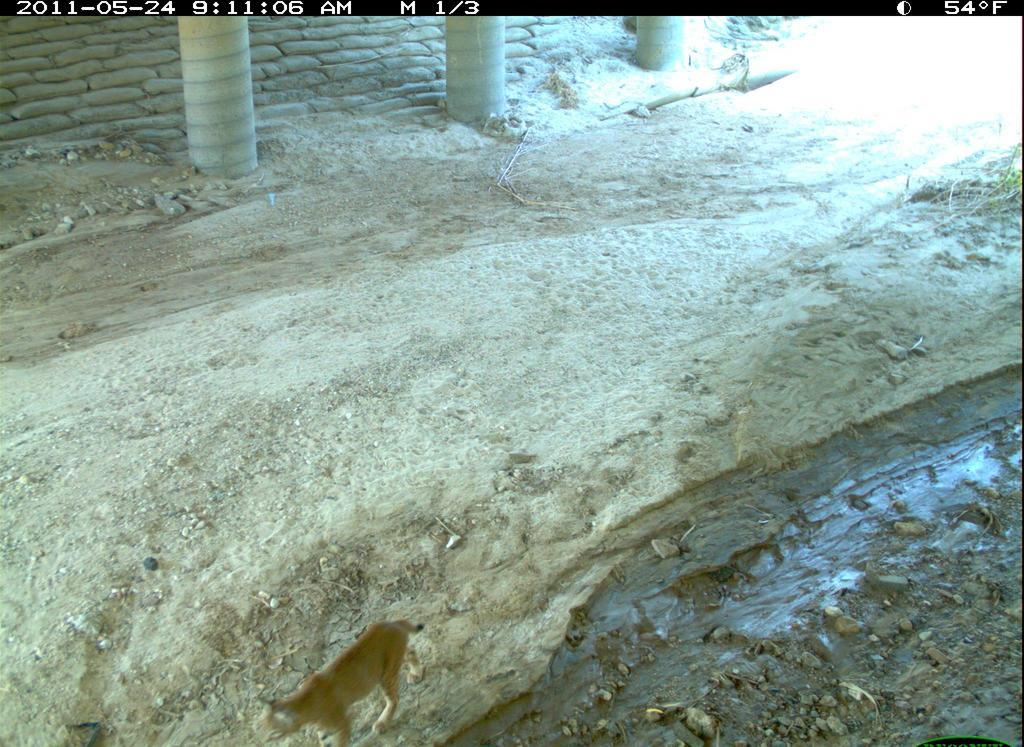bobcat: (248, 611, 437, 747)
